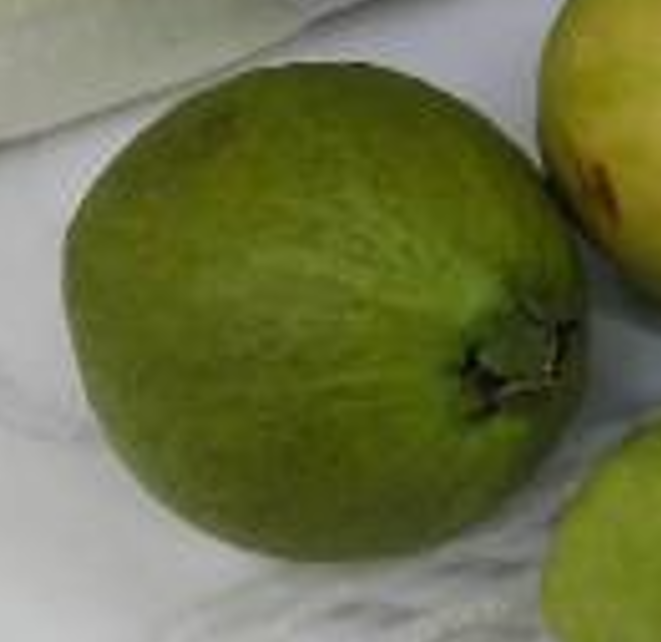guava_B: (62, 61, 592, 563)
